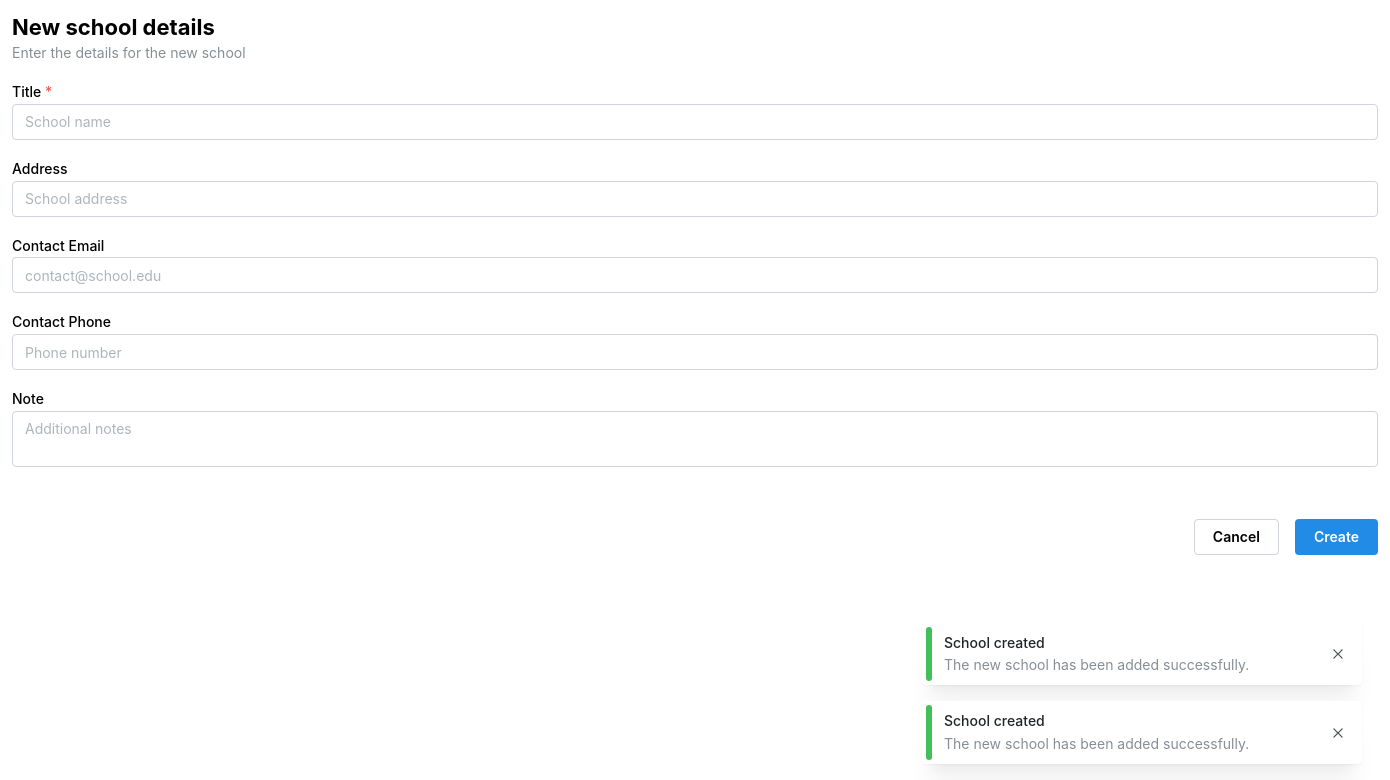
Test: CreateSchoolForm › shows error notification when mutation fails
Step 1. Type "Duplicate" into the field labelled "Title *" → coordinates (695, 122), box x1=12 y1=104 x2=1378 y2=140
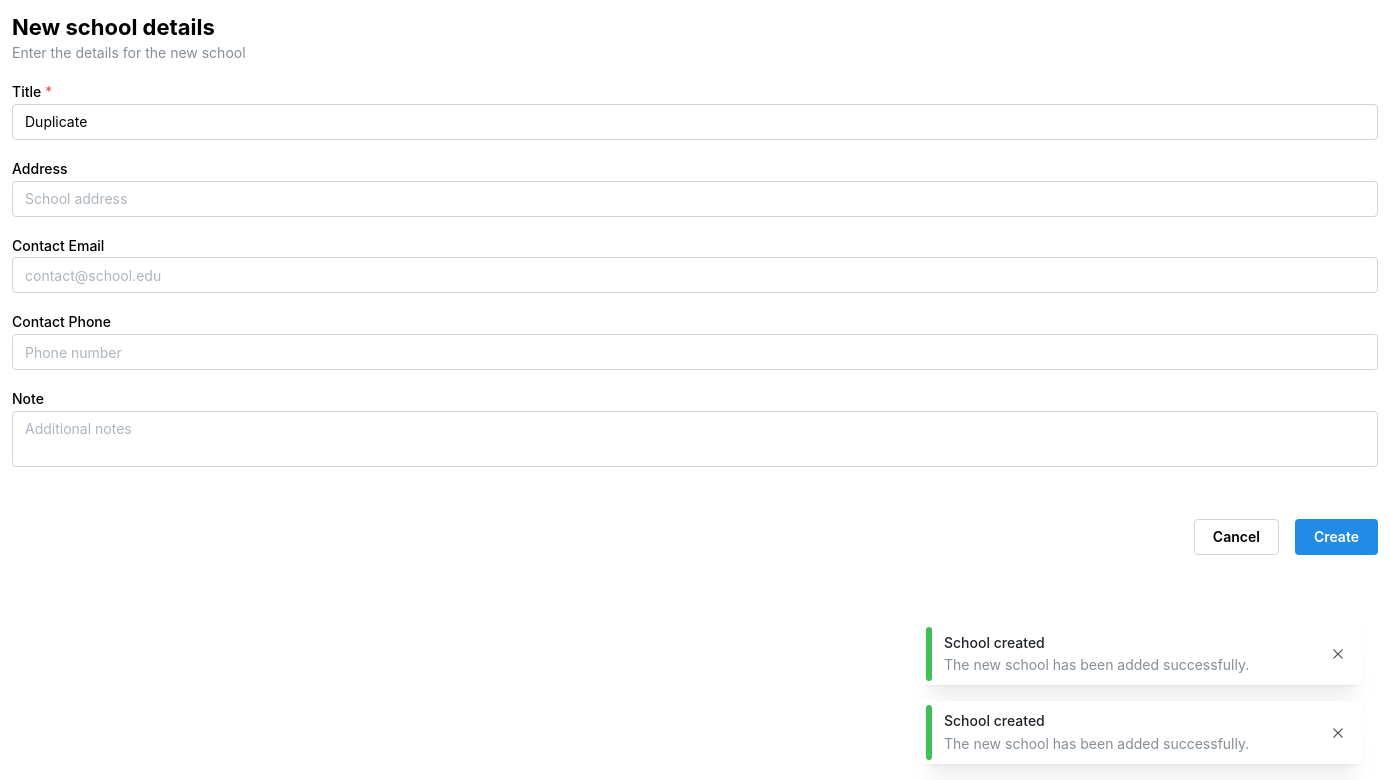
Step 2. Click the button "Create" → coordinates (1336, 538), box x1=1295 y1=520 x2=1378 y2=556
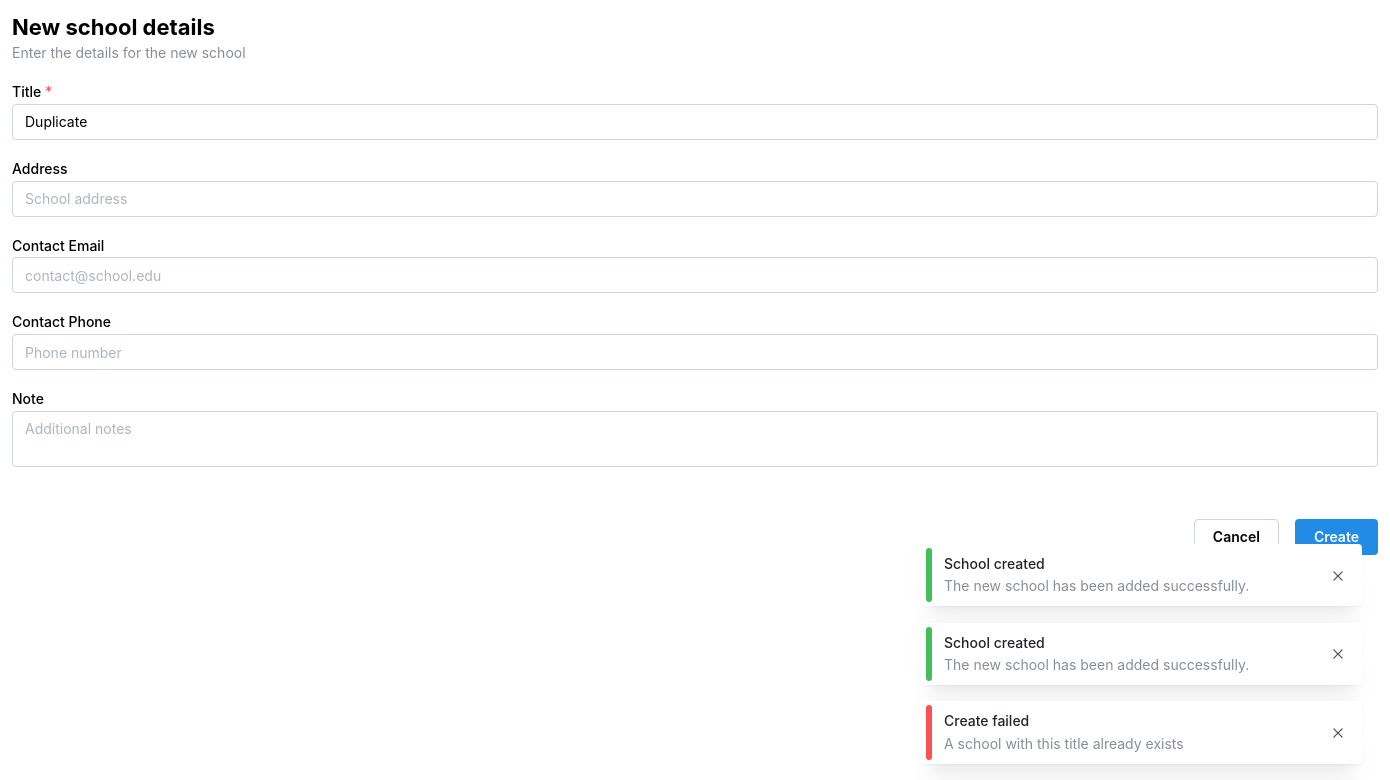
Result: the text "A school with this title already exists" is shown at x1=944 y1=735 x2=1184 y2=752
